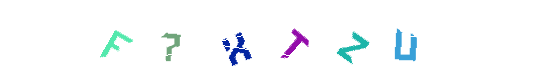7: (132, 0, 212, 80)
F: (131, 0, 211, 80)
T: (234, 0, 314, 80)
U: (337, 0, 417, 80)
X: (197, 0, 277, 80)
Z: (255, 0, 335, 80)
